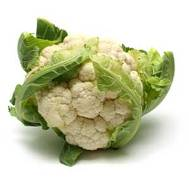cauliflower: (7, 16, 176, 167)
